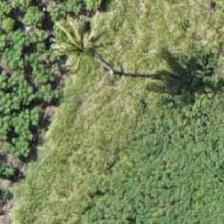coconut_tree: (39, 0, 129, 80)
